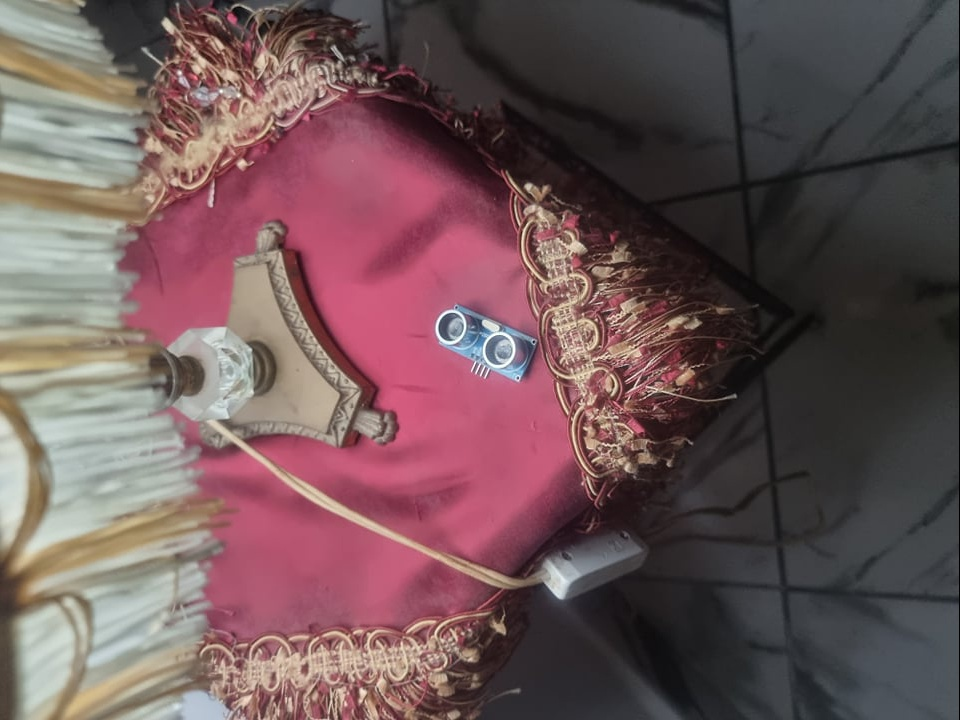SENSOR: (435, 305, 539, 382)
